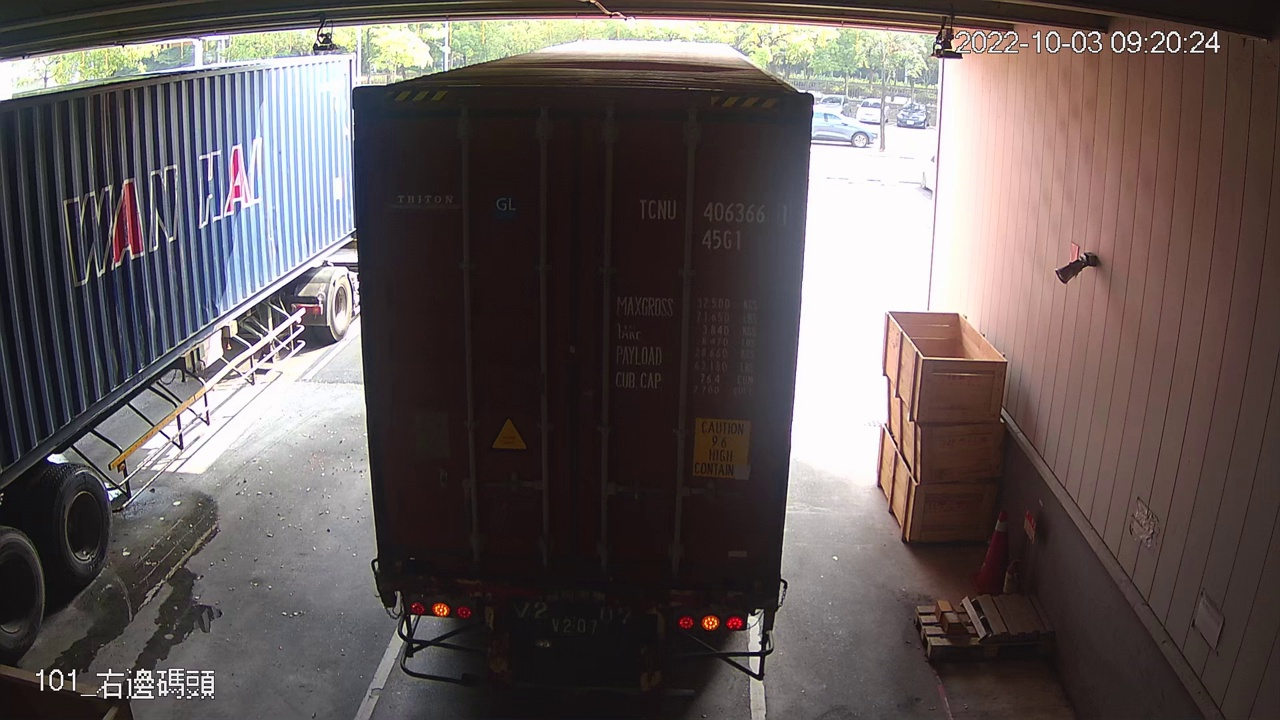container: (631, 191, 797, 254)
